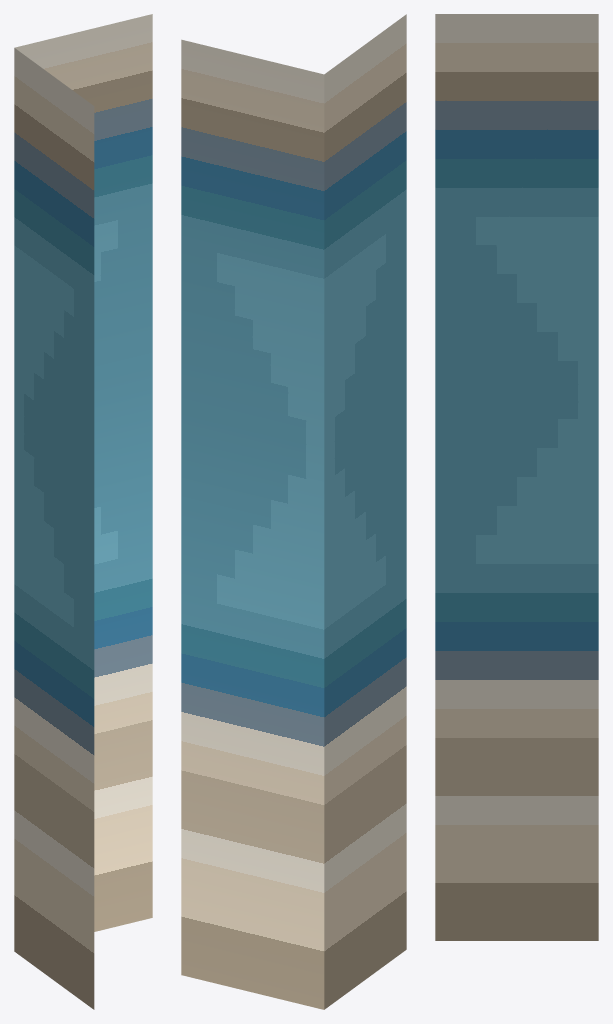
The picture shows the model from 3 angles, left to right: view 1: azimuth 30°, elevation 25°; view 2: azimuth 150°, elevation 25°; view 3: azimuth 270°, elevation 25°; orthographic projection. The views are drawn at different scales.
Size of the model in its own units: 0.5 by 3.12 by 0.5.
Materials: 1 (1 with a texture image).
